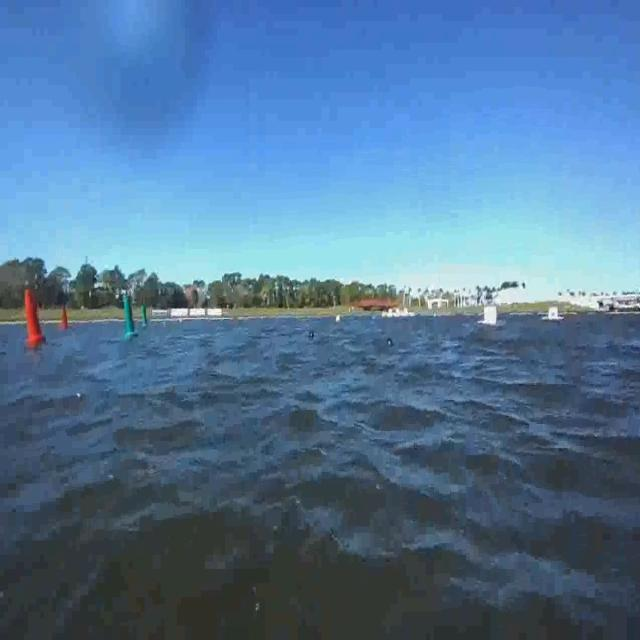black-buoy: (387, 336, 394, 346), (309, 332, 316, 340)
green-column-buoy: (120, 294, 136, 338), (140, 304, 148, 328)
red-column-buoy: (22, 286, 48, 344), (60, 305, 72, 332)
